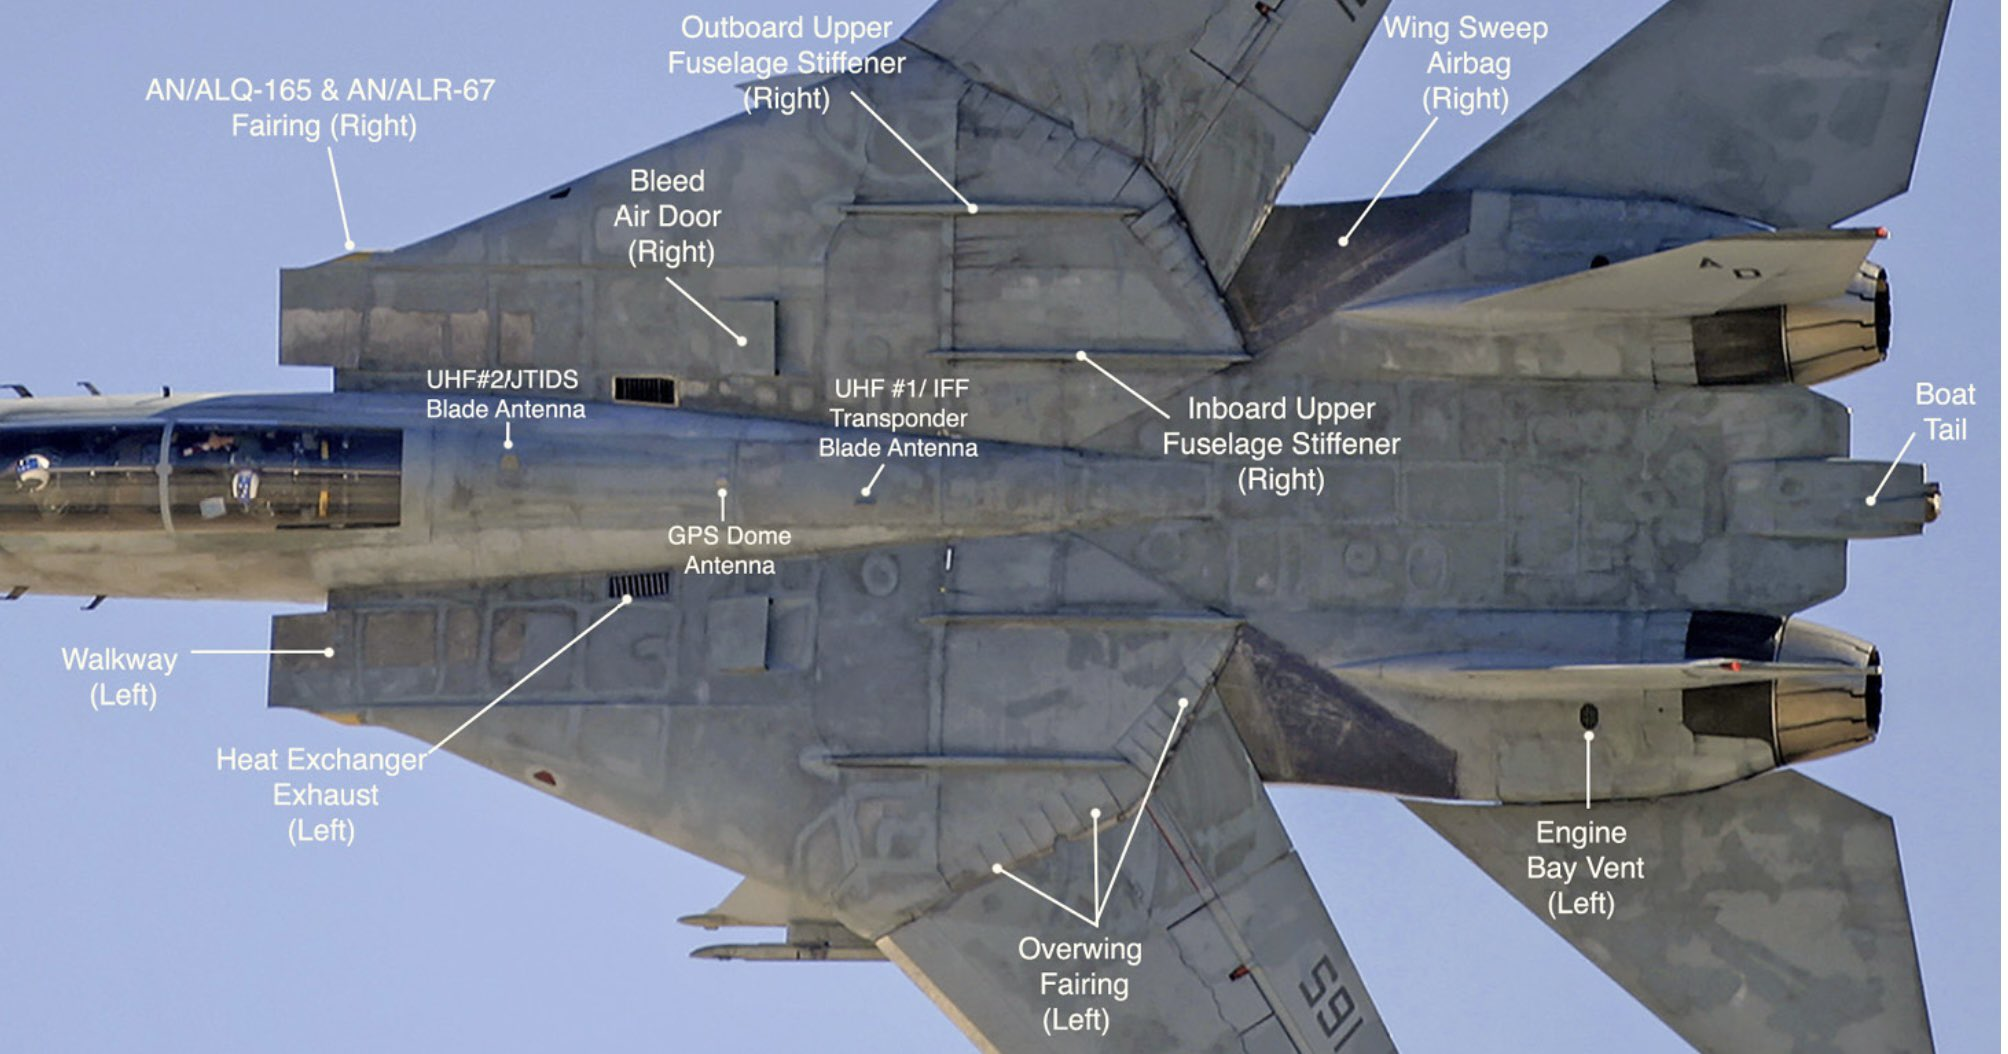F14: (1, 1, 1952, 1054)
